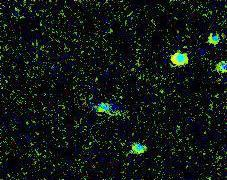star: (40, 53, 70, 83)
